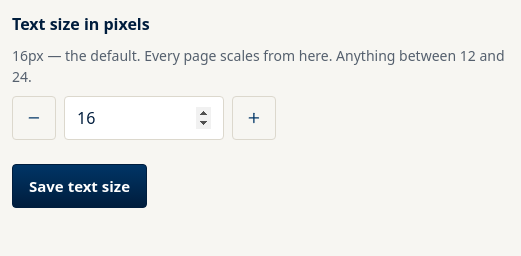
Test: TextSizeForm › shows a refusal beside the field rather than throwing
Click the button "Save text size" at (80, 186), box [12, 164, 147, 208]
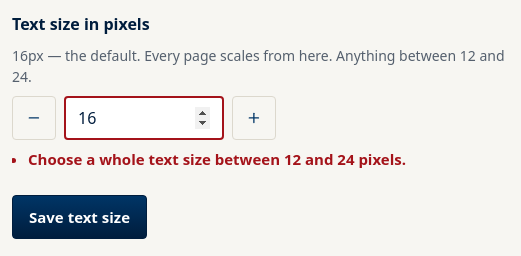
Now the message shows "between 12 and 24 pixels", box [28, 149, 406, 169]
